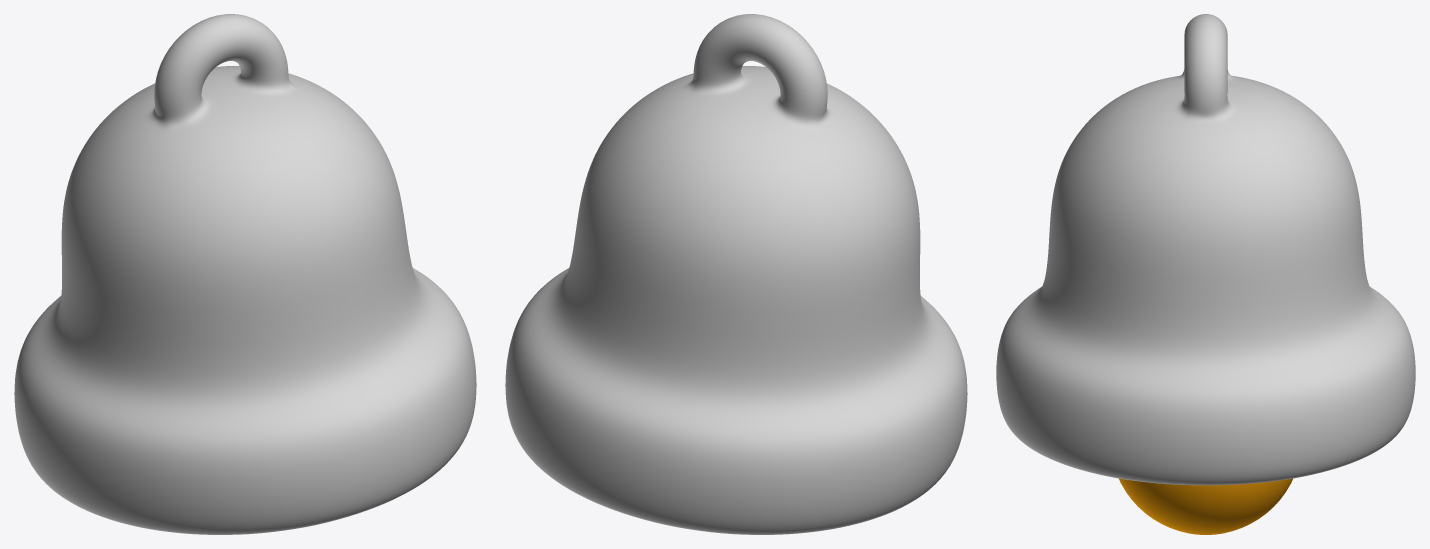
The model's file is notification-animated-3d-icon-1637580751936.glb.
The picture shows the model from 3 angles, left to right: view 1: azimuth 30°, elevation 25°; view 2: azimuth 150°, elevation 25°; view 3: azimuth 270°, elevation 25°; orthographic projection. The views are drawn at different scales.
Parts seen in each view (by area): view 1: Notification; view 2: Notification; view 3: Notification, Bell.
Boxes of the visible parts, left/top/right/bottom form: Notification: left=14, top=14, right=476, bottom=534; Notification: left=505, top=14, right=967, bottom=534; Notification: left=996, top=14, right=1415, bottom=485; Bell: left=1119, top=478, right=1292, bottom=534.
Size of the model in its own units: 1.78 by 2.17 by 1.78.
